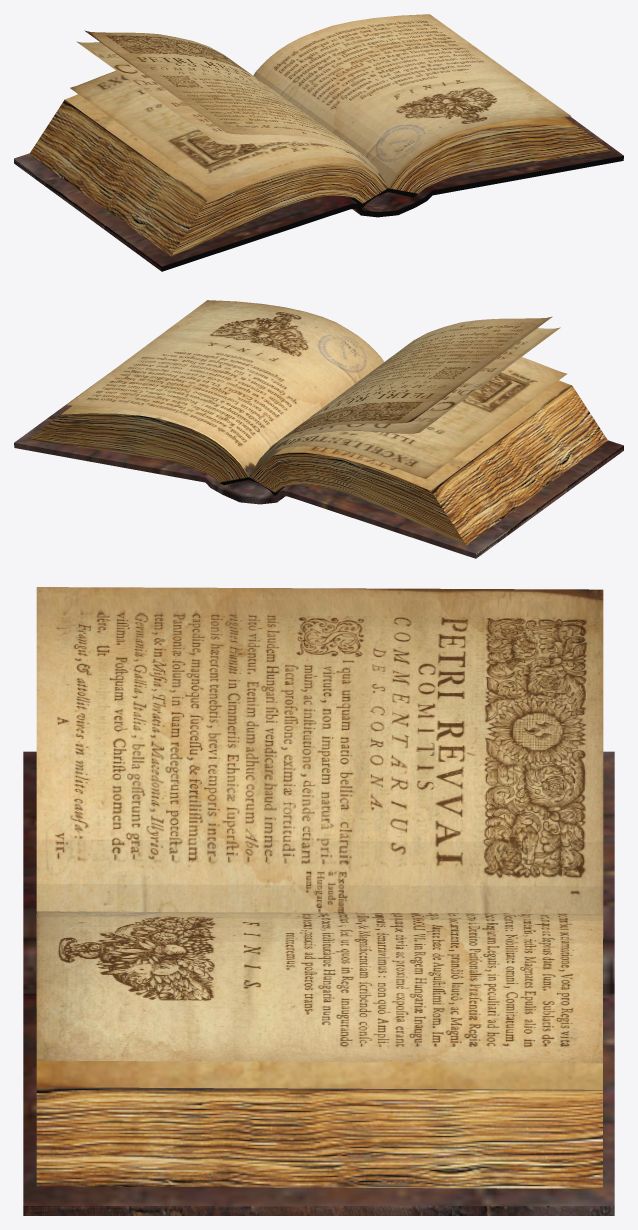
File: opened_book.fbx
The picture shows the model from 3 angles, top to bottom: view 1: azimuth 30°, elevation 25°; view 2: azimuth 150°, elevation 25°; view 3: azimuth 270°, elevation 25°; orthographic projection. The views are drawn at different scales.
Visible parts, largest first — view 1: Book_Opened; view 2: Book_Opened; view 3: Book_Opened.
Part boxes in pixels (bbox=[...]): Book_Opened: bbox=[14, 14, 623, 271]; Book_Opened: bbox=[14, 300, 623, 558]; Book_Opened: bbox=[23, 587, 614, 1215].
Size of what is drawn, in the model's own units: 51.8 by 13.07 by 28.72.
